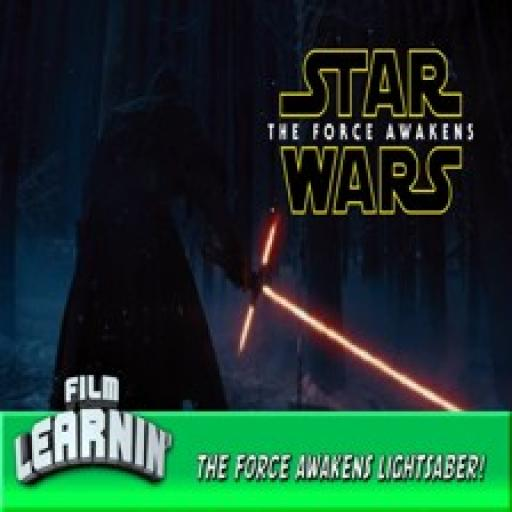human: (34, 69, 258, 409)
sith saber: (201, 214, 480, 412)
